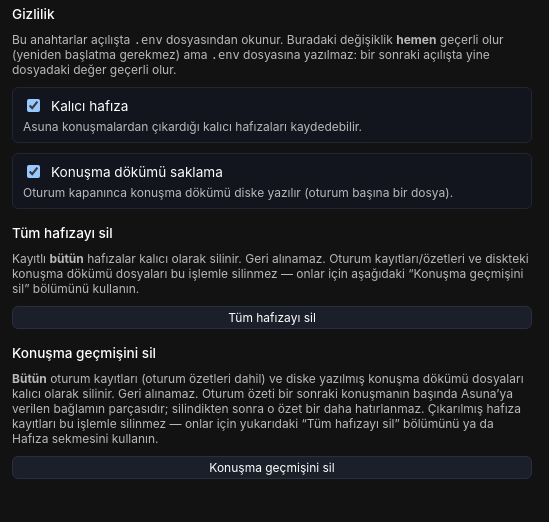
SettingsView — tum hafizayi sil › hafiza kapaliyken "sildim" demez
Click the button "Tüm hafızayı sil" at (272, 318), box x1=12 y1=306 x2=532 y2=329
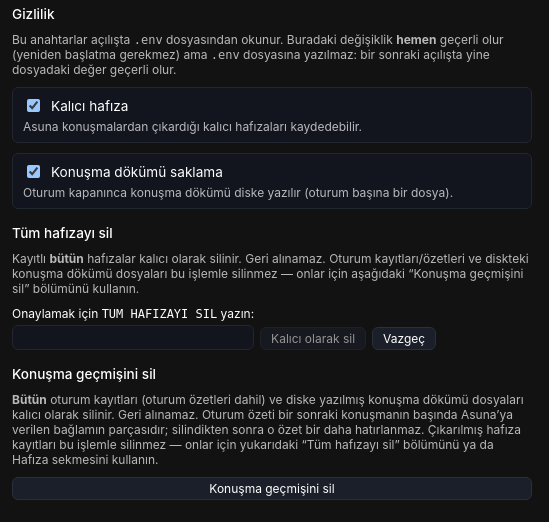
Type "TUM HAFIZAYI SIL" into the field at (133, 338), box x1=12 y1=325 x2=254 y2=350
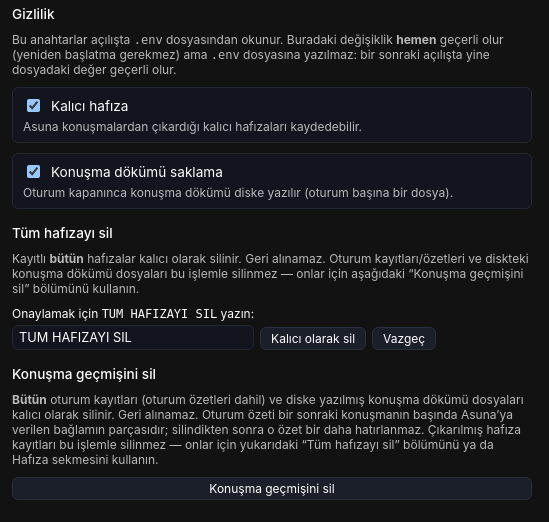
Click the button "Kalıcı olarak sil" at (313, 338), box x1=260 y1=327 x2=366 y2=350
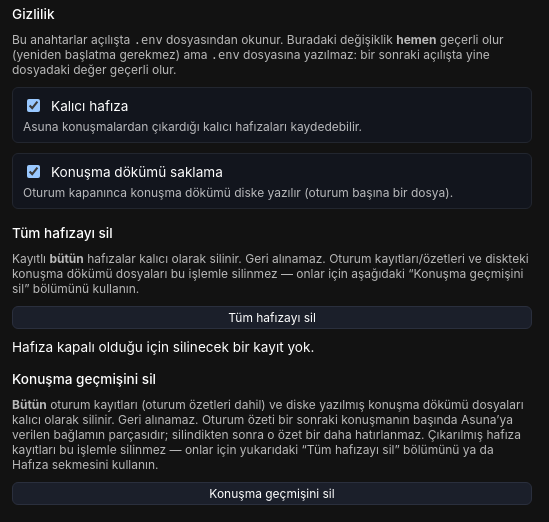
Expected: the message reads "Hafıza kapalı olduğu için silinecek bir kayıt yok.", x1=12 y1=339 x2=314 y2=355
